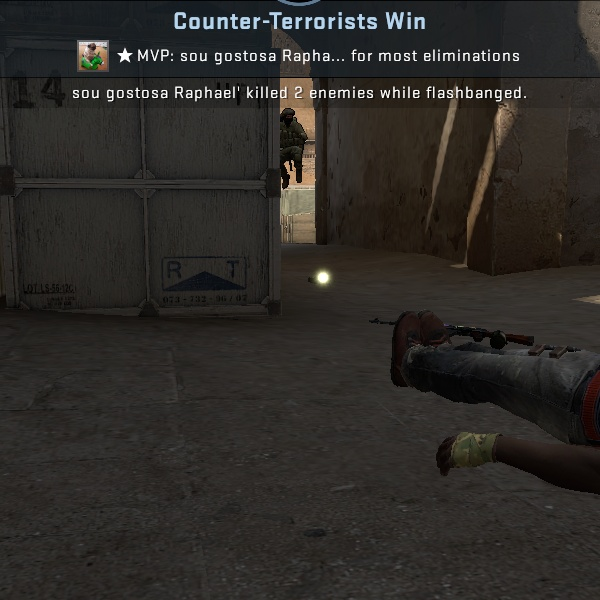ct_body: (275, 102, 312, 192)
